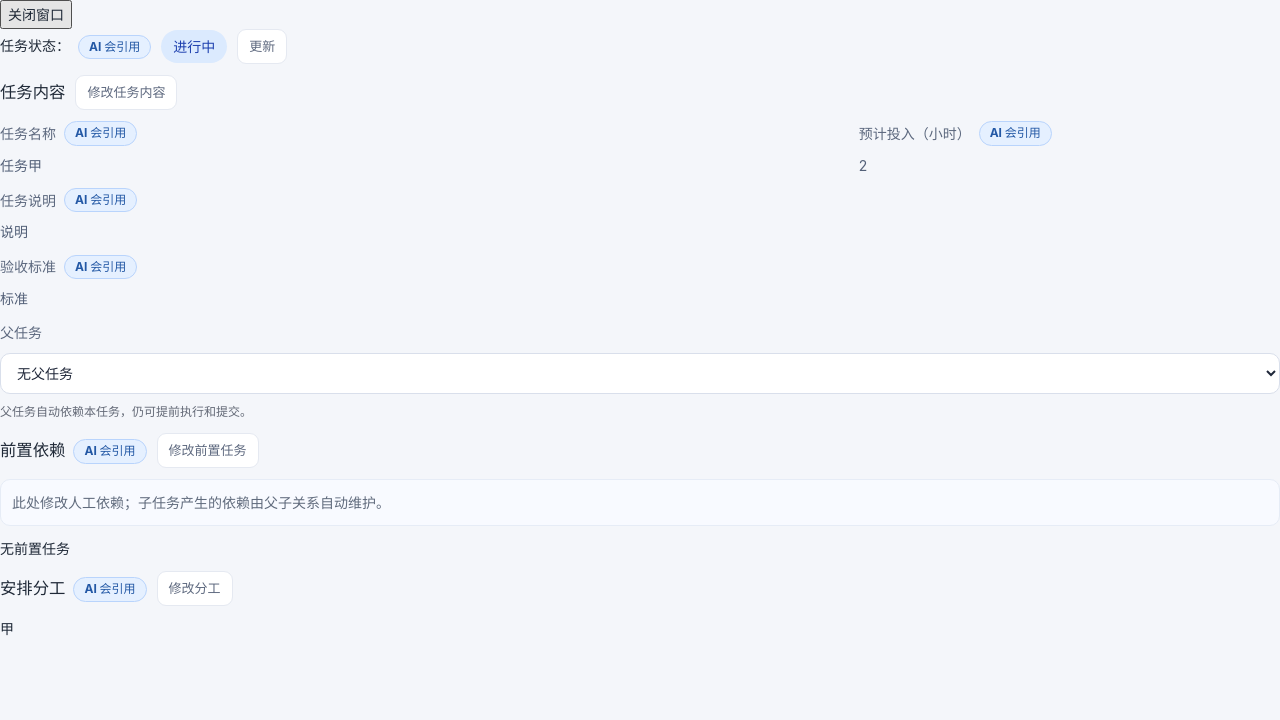
task settings autosave › puts status operations in a separate window and dependencies in a searchable dialog
Click the button "修改任务内容".
click(126, 92)  # box [75,75,177,110]
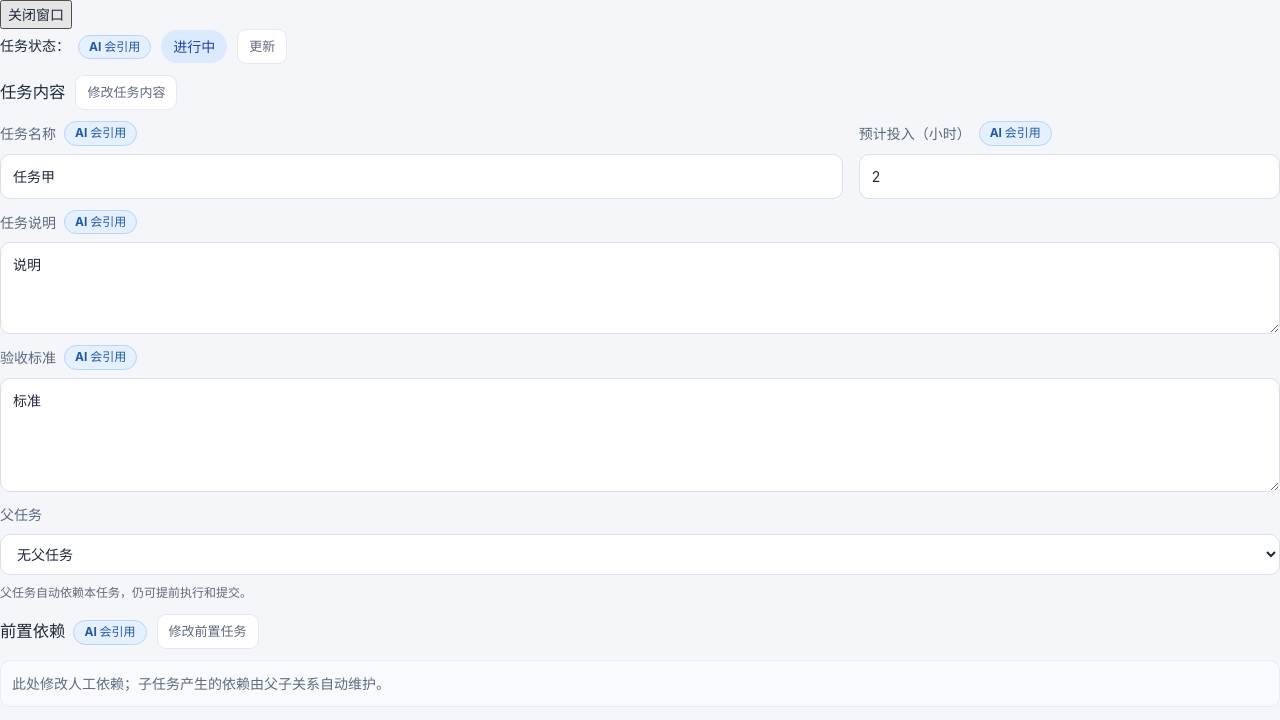
Click the button "更新".
click(262, 46)  # box [237,29,287,64]
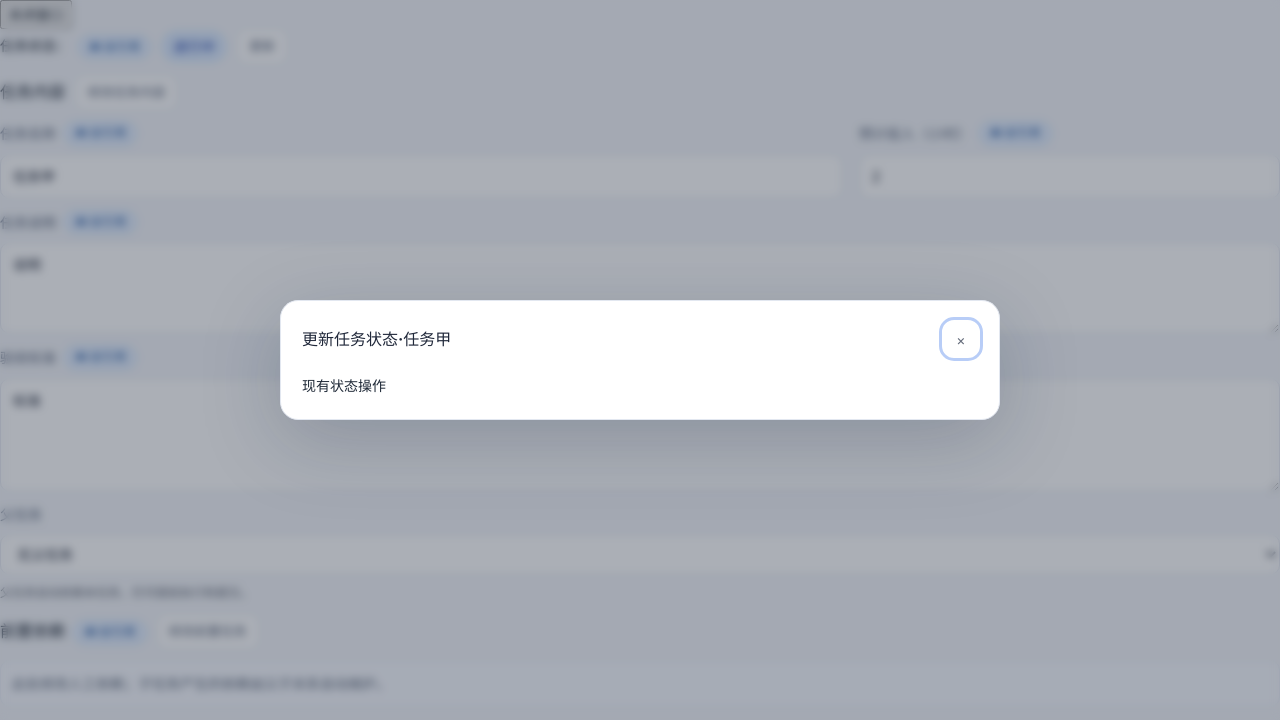
Now the dialog "更新任务状态·任务甲" is shown, box [280,300,1000,420]
Click the button named "关闭".
click(961, 340)  # box [944,322,978,356]
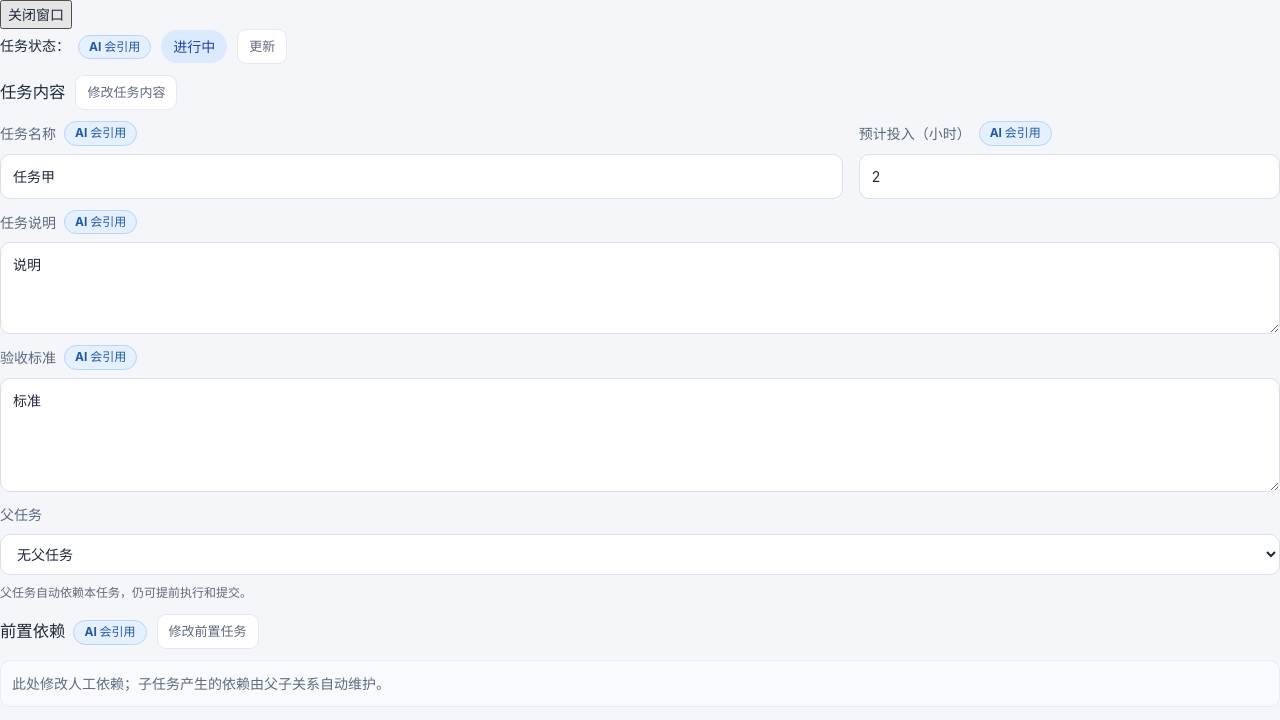
Click the button "修改前置任务".
click(208, 632)  # box [157,614,259,649]
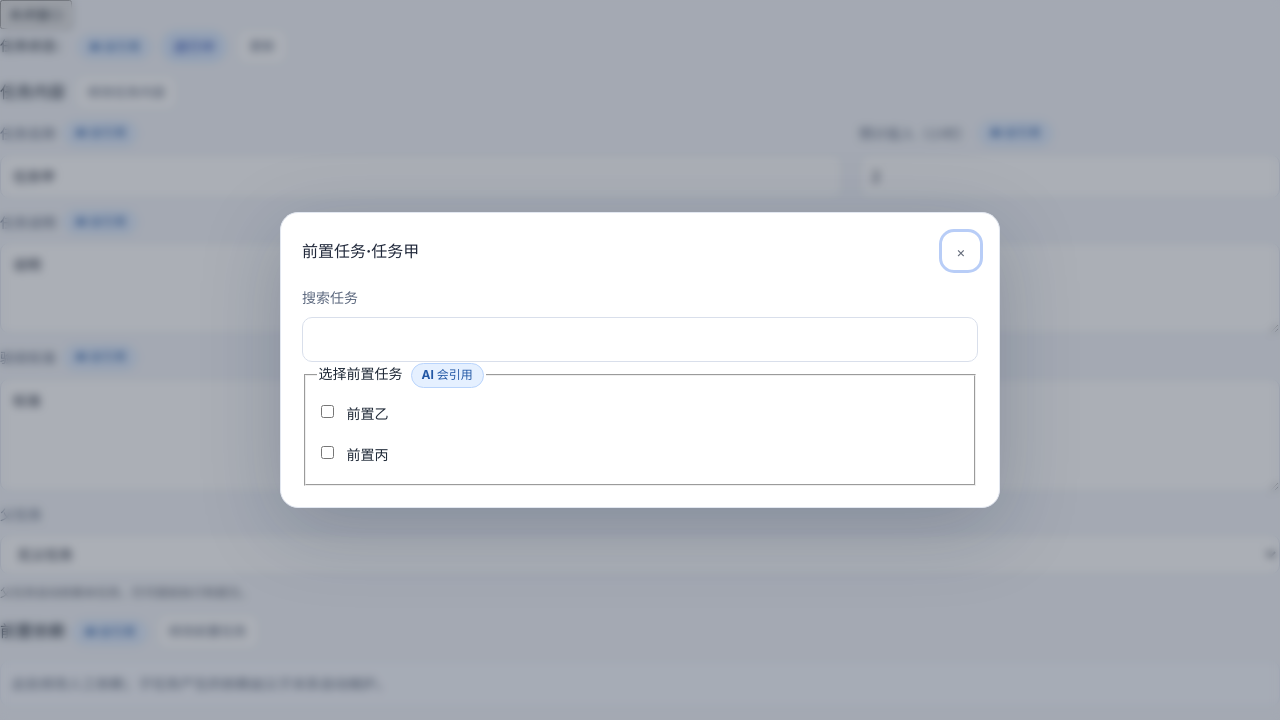
Now the dialog "前置任务·任务甲" is shown, box [280,212,1000,508]
Type "丙" into the field labelled "搜索任务".
click(640, 340); type("丙")  # box [302,317,978,362]
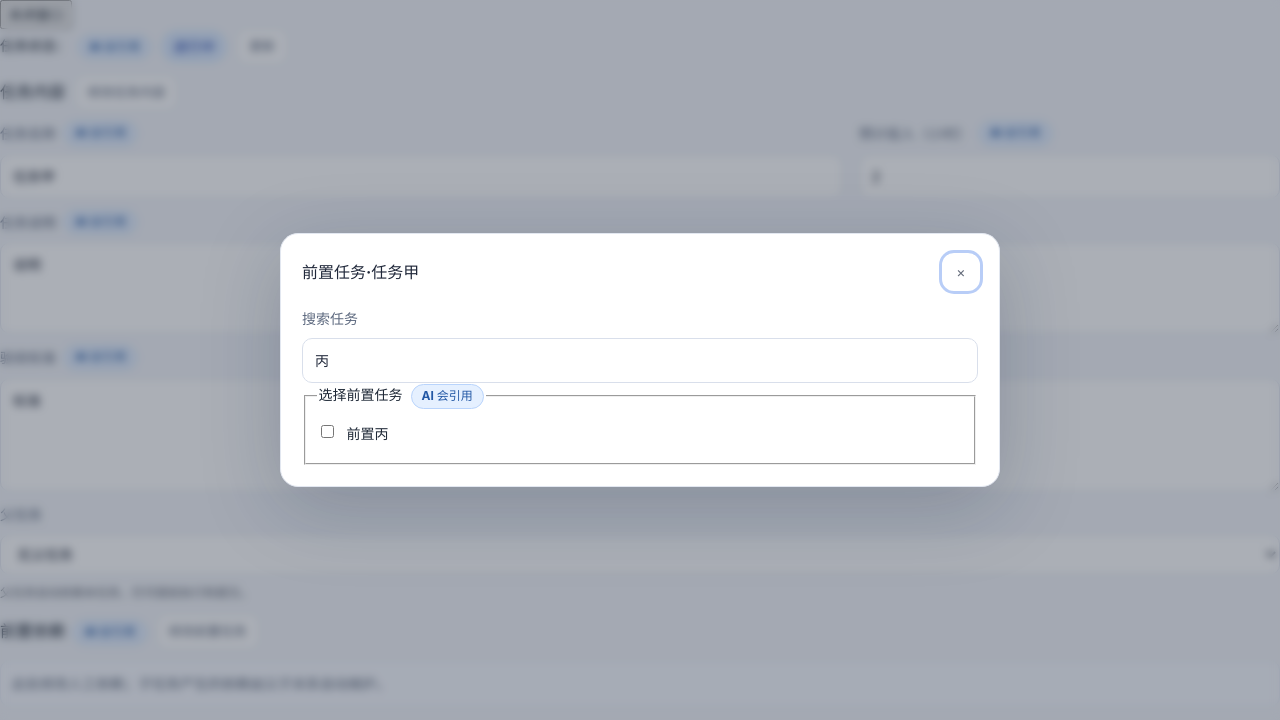
Now the number of checkboxes is 1, box [320,425,334,438]
